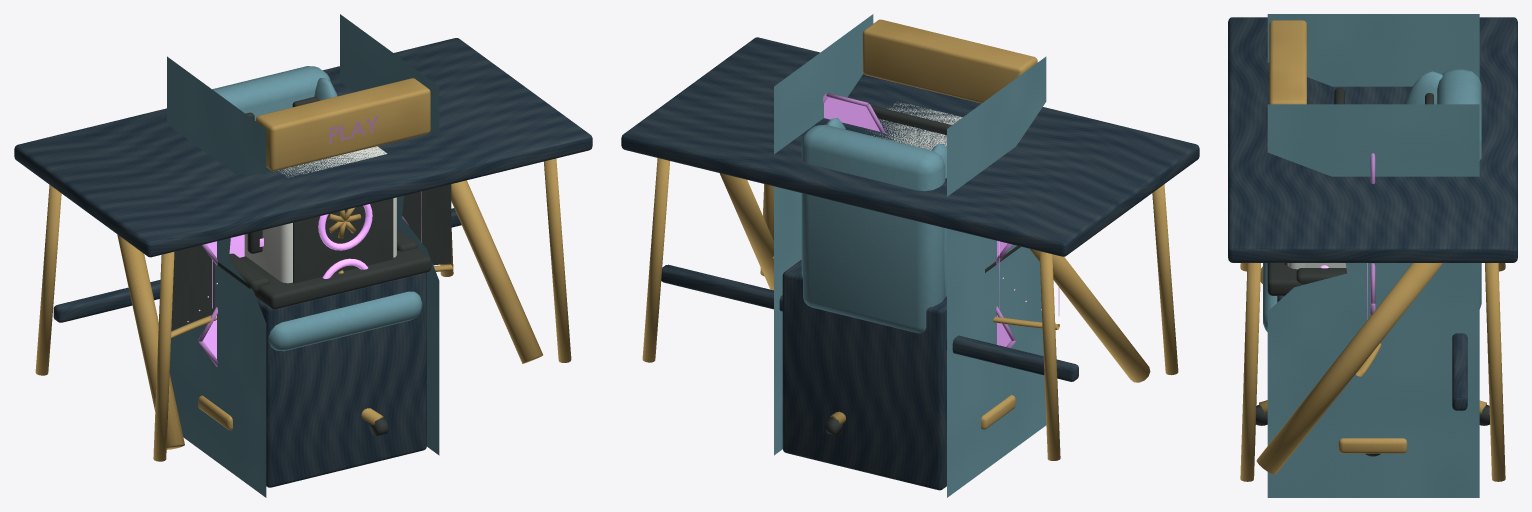
File: tidy-life-player.glb
3 views of the same model, side by side, from view 1: azimuth 30°, elevation 25°; view 2: azimuth 150°, elevation 25°; view 3: azimuth 270°, elevation 25° (orthographic). The views are drawn at different scales.
Visible parts, largest first — view 1: life_player_arcade_mesh, life_player_cockpitdesk_mesh, life_player_racingseat_mesh, life_player_pcpod_mesh, life_player_widepanel_mesh, life_player_hexlight_mesh; view 2: life_player_arcade_mesh, life_player_cockpitdesk_mesh, life_player_racingseat_mesh, life_player_hexlight_mesh, life_player_pcpod_mesh; view 3: life_player_arcade_mesh, life_player_cockpitdesk_mesh, life_player_racingseat_mesh, life_player_hexlight_mesh.
Boxes of the visible parts, x1,y1,x2,y2 form: life_player_arcade_mesh: (167,14,439,497); life_player_cockpitdesk_mesh: (14,38,592,461); life_player_racingseat_mesh: (212,66,422,436); life_player_pcpod_mesh: (244,146,396,283); life_player_widepanel_mesh: (171,184,452,338); life_player_hexlight_mesh: (198,216,408,430); life_player_arcade_mesh: (774,14,1046,497); life_player_cockpitdesk_mesh: (621,37,1199,460); life_player_racingseat_mesh: (801,118,1020,435); life_player_hexlight_mesh: (822,93,1015,429); life_player_pcpod_mesh: (870,103,962,150); life_player_arcade_mesh: (1267,14,1479,497); life_player_cockpitdesk_mesh: (1228,17,1517,481); life_player_racingseat_mesh: (1256,69,1489,456); life_player_hexlight_mesh: (1338,153,1407,453).
Size of the model in its own units: 0.72 by 0.57 by 0.38.
Materials: 9 (9 with a texture image).
